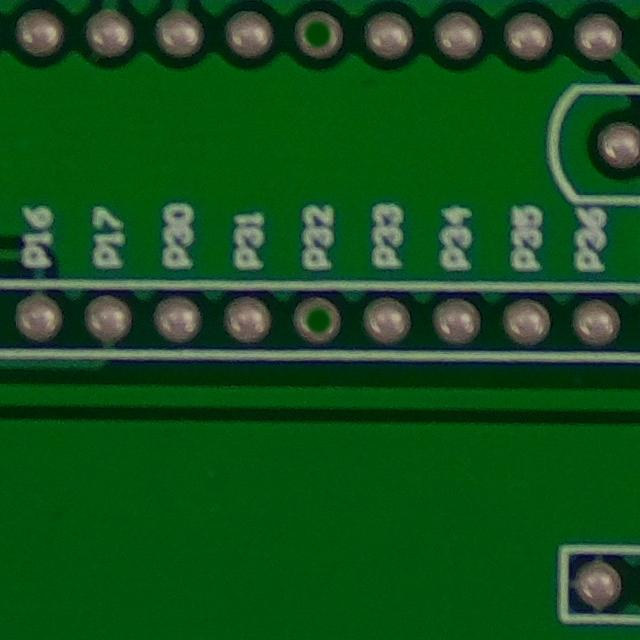missing_hole: (286, 290, 355, 350)
